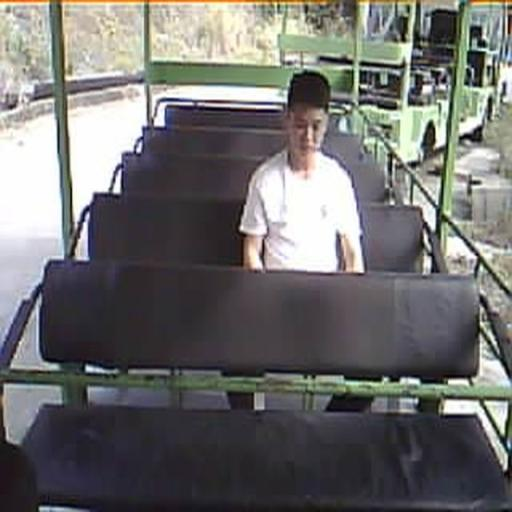persona: (238, 68, 366, 274)
